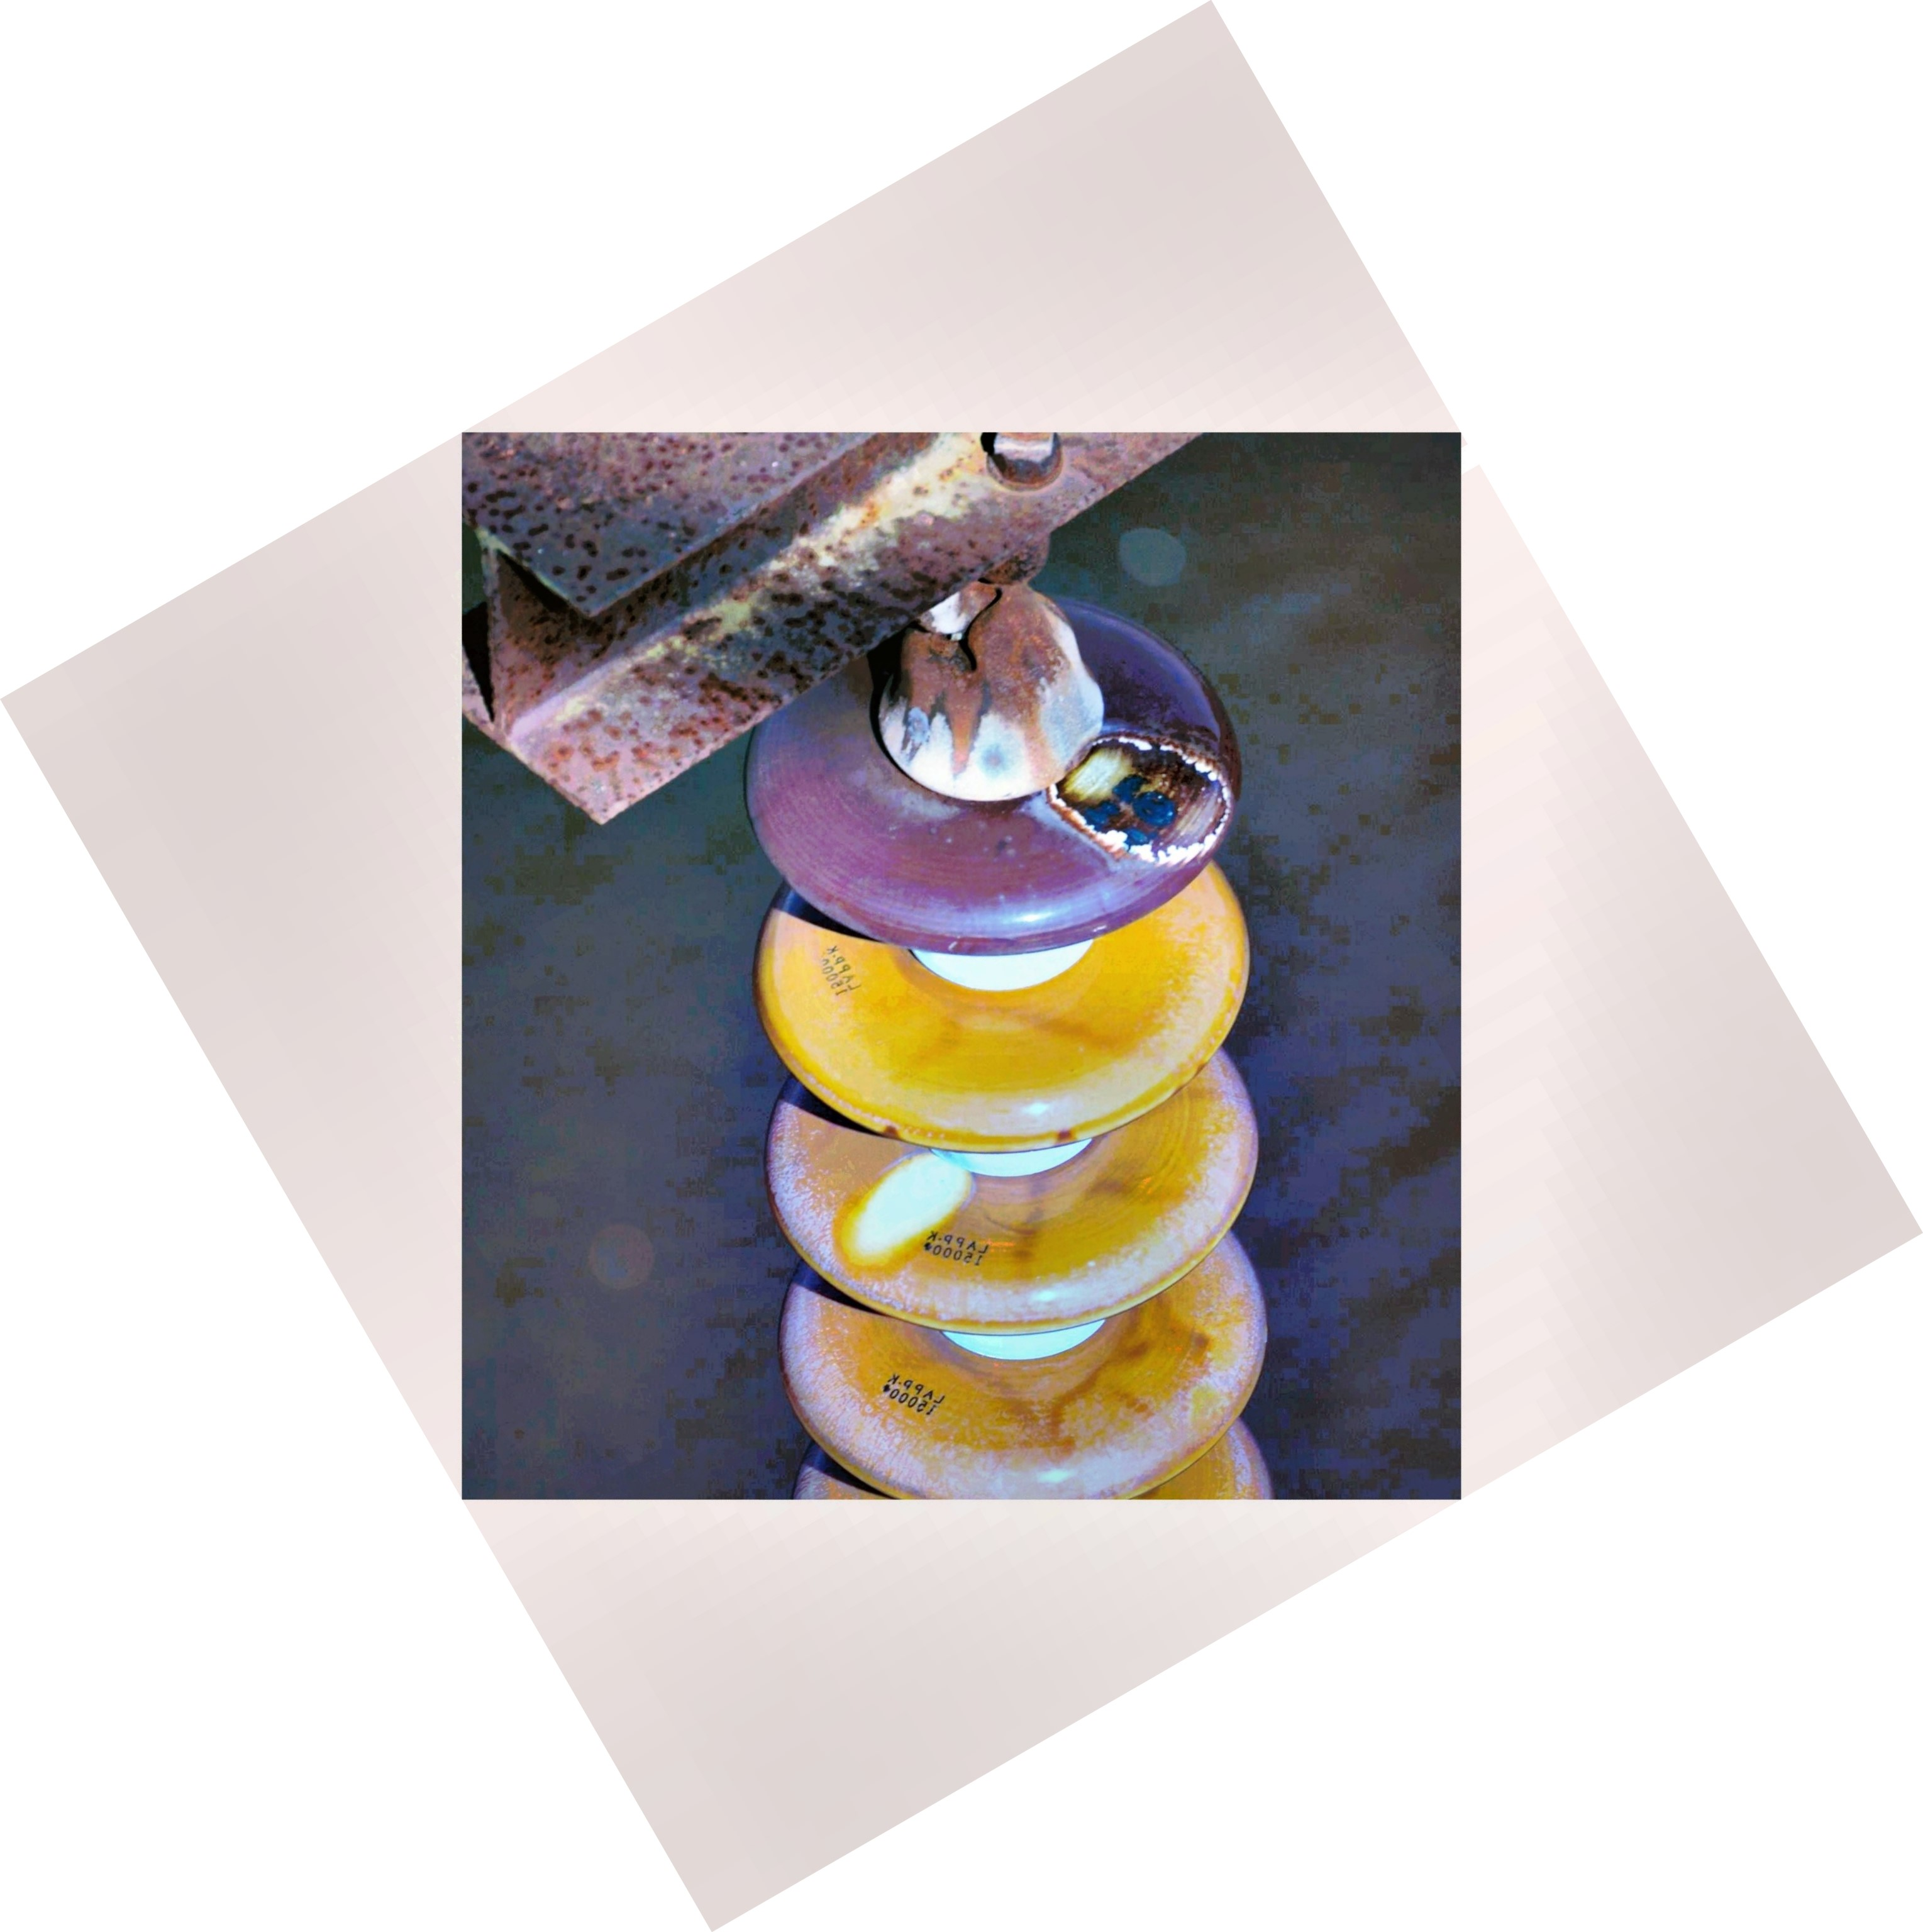Insulator flashover: (733, 549, 1271, 970)
